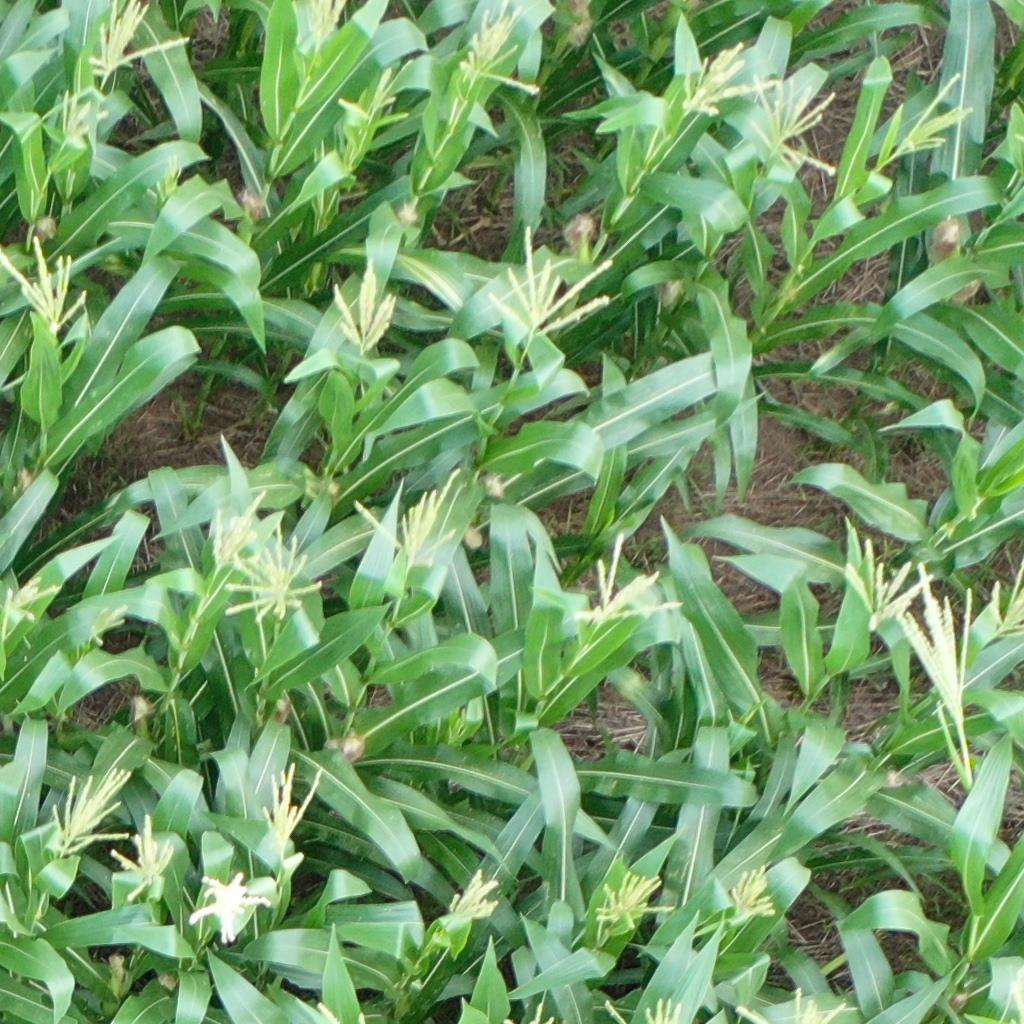Tassel: (897, 562, 979, 780), (490, 227, 614, 340), (351, 464, 460, 565), (572, 531, 682, 621), (225, 527, 325, 624), (750, 75, 840, 179), (1, 236, 88, 338), (457, 1, 545, 97), (88, 1, 190, 80), (677, 43, 777, 119), (841, 543, 930, 626), (50, 769, 134, 853), (896, 73, 974, 153), (331, 260, 398, 353), (110, 812, 175, 902), (193, 871, 271, 943), (261, 763, 325, 849), (734, 986, 854, 1024), (595, 872, 673, 929), (211, 490, 266, 566), (336, 67, 397, 120), (56, 88, 109, 147), (447, 869, 500, 926), (726, 867, 776, 924), (1, 576, 59, 625), (989, 557, 1024, 635), (305, 1, 344, 47), (90, 606, 127, 652), (151, 153, 184, 203), (503, 997, 558, 1024), (641, 992, 682, 1024), (318, 1003, 368, 1024), (1006, 965, 1024, 1015), (444, 719, 465, 740)
